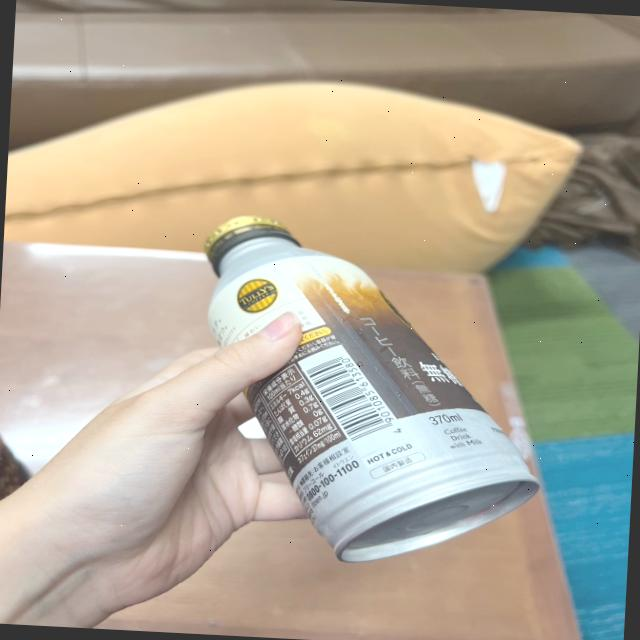coffee-latte: (187, 211, 546, 573)
